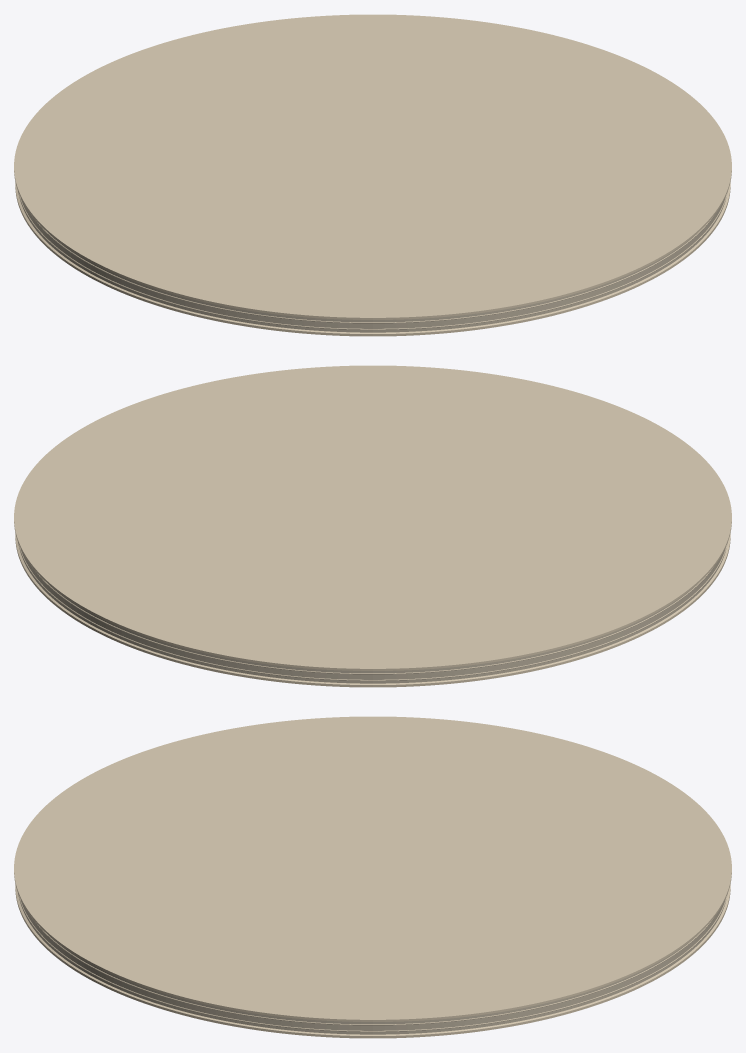
3 renders of one model, top to bottom at view 1: azimuth 30°, elevation 25°; view 2: azimuth 150°, elevation 25°; view 3: azimuth 270°, elevation 25°, orthographic.
Parts seen in each view (by area): view 1: Base_2; view 2: Base_2; view 3: Base_2.
Part boxes in pixels (x1,y1,x2,y2): Base_2: (14,14,731,336); Base_2: (14,365,731,687); Base_2: (14,716,731,1038).
Bounding box in the file's own units: 4850 × 4850 × 150.
